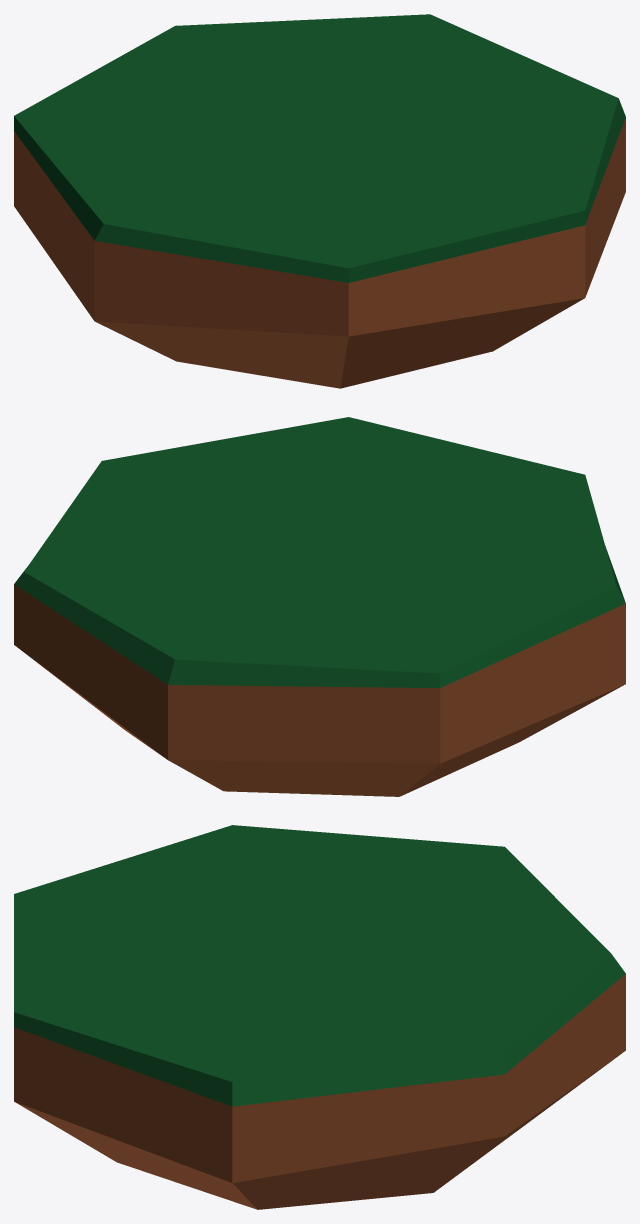
Rendered from GrassPlatform.glb.
The picture shows the model from 3 angles, top to bottom: view 1: azimuth 30°, elevation 25°; view 2: azimuth 150°, elevation 25°; view 3: azimuth 270°, elevation 25°; orthographic projection. The views are drawn at different scales.
Visible parts, largest first — view 1: GrassPlatform; view 2: GrassPlatform; view 3: GrassPlatform.
Boxes of the visible parts, x1,y1,x2,y2 form: GrassPlatform: (14, 14, 625, 388); GrassPlatform: (14, 417, 625, 796); GrassPlatform: (14, 825, 625, 1209).
Size of the model in its own units: 0.633 by 0.1905 by 0.6171.
